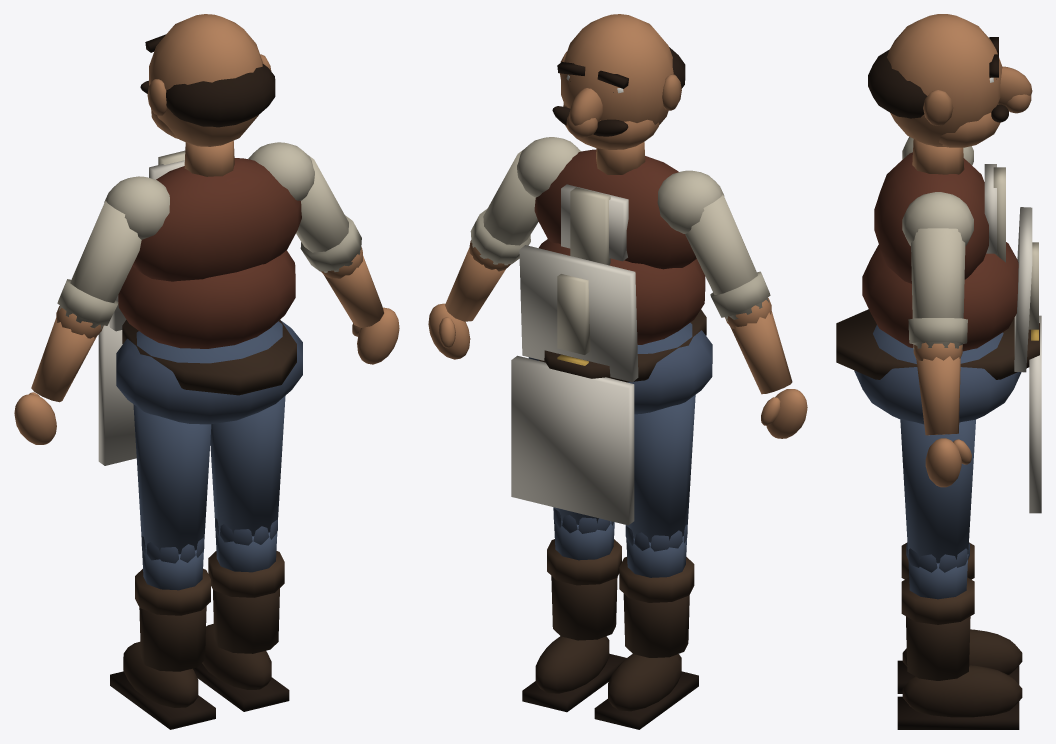
Rendered from taberneiro_2.glb.
3 renders of one model, left to right at view 1: azimuth 30°, elevation 25°; view 2: azimuth 150°, elevation 25°; view 3: azimuth 270°, elevation 25°, orthographic.
Parts seen in each view (by area): view 1: Chest, Hips, Head, Spine, RightUpperLeg, RightLowerLeg, LeftLowerLeg, LeftUpperLeg, RightUpperArm, RightFoot, LeftFoot, LeftUpperArm (+5 smaller); view 2: Hips, Chest, Spine, Head, RightLowerLeg, LeftLowerLeg, RightUpperLeg, RightUpperArm, RightFoot, LeftFoot, LeftUpperArm, RightForeArm (+4 smaller); view 3: Head, Hips, Chest, Spine, LeftLowerLeg, LeftUpperLeg, LeftFoot, LeftUpperArm, LeftForeArm, RightFoot, LeftHand, Neck (+1 smaller).
Boxes of the visible parts, x1,y1,x2,y2 form: Chest: [104, 142, 314, 281]; Hips: [98, 320, 302, 465]; Head: [140, 14, 275, 146]; Spine: [109, 250, 295, 348]; RightUpperLeg: [133, 404, 211, 554]; RightLowerLeg: [135, 536, 210, 671]; LeftLowerLeg: [208, 518, 284, 653]; LeftUpperLeg: [210, 396, 285, 536]; RightUpperArm: [57, 200, 141, 329]; RightFoot: [110, 642, 215, 729]; LeftFoot: [193, 623, 289, 711]; LeftUpperArm: [296, 156, 361, 272]; Hips: [511, 309, 712, 525]; Chest: [517, 137, 724, 269]; Spine: [519, 239, 705, 382]; Head: [552, 14, 685, 149]; RightLowerLeg: [619, 524, 694, 657]; LeftLowerLeg: [547, 508, 621, 640]; RightUpperLeg: [625, 395, 695, 542]; RightUpperArm: [685, 194, 770, 321]; RightFoot: [594, 654, 698, 729]; LeftFoot: [522, 636, 626, 712]; LeftUpperArm: [470, 150, 538, 265]; RightForeArm: [725, 298, 792, 394]; Head: [868, 14, 1032, 147]; Hips: [836, 309, 1041, 513]; Chest: [874, 137, 1005, 283]; Spine: [862, 207, 1038, 372]; LeftLowerLeg: [901, 543, 974, 680]; LeftUpperLeg: [900, 419, 975, 563]; LeftFoot: [897, 665, 1022, 729]; LeftUpperArm: [908, 228, 967, 349]; LeftForeArm: [913, 342, 962, 435]; RightFoot: [897, 629, 1022, 693]; LeftHand: [925, 438, 971, 487]; Neck: [912, 139, 964, 174].
Bounding box in the file's own units: 1.09 × 1.86 × 0.5061.
